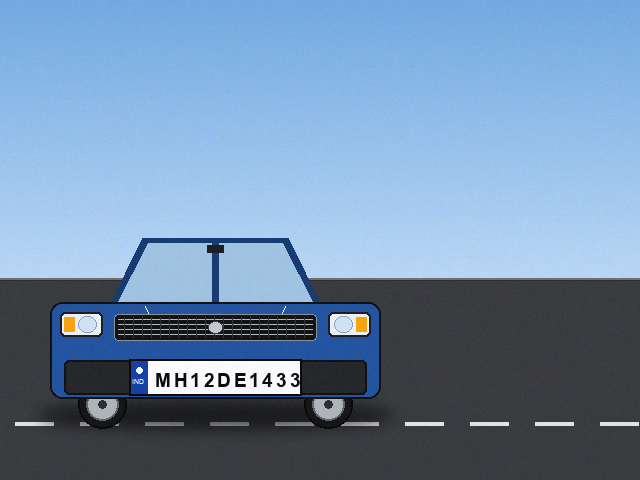licence: (129, 359, 301, 395)
